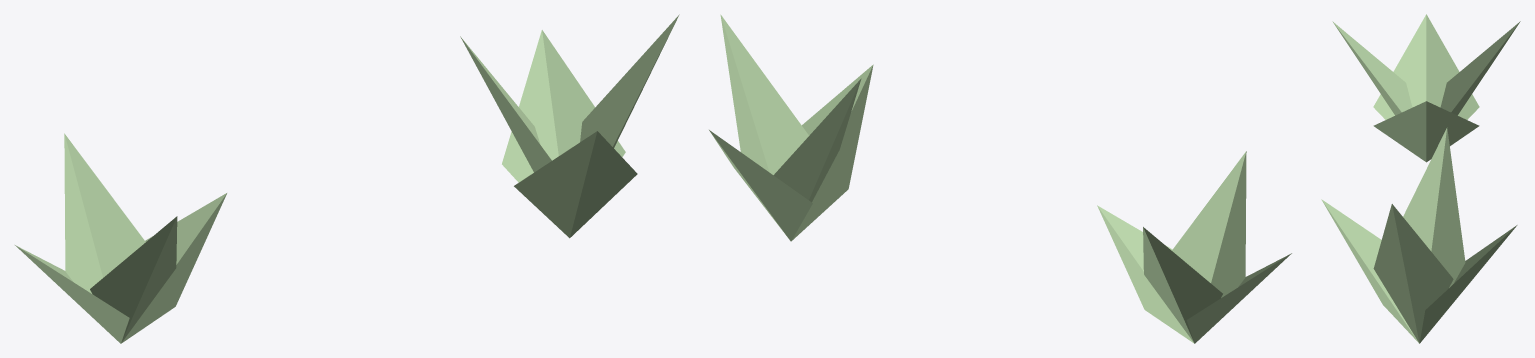
Rendered from crafted-orchard-ready.glb.
3 views of the same model, side by side, from view 1: azimuth 30°, elevation 25°; view 2: azimuth 150°, elevation 25°; view 3: azimuth 270°, elevation 25° (orthographic). The views are drawn at different scales.
Visible parts, largest first — view 1: vegetation-1, vegetation-0; view 2: vegetation-1, vegetation-0; view 3: vegetation-1, vegetation-0.
Boxes of the visible parts, x1=… form: vegetation-1: x1=460, y1=14, x2=679, y2=238; vegetation-0: x1=15, y1=133, x2=226, y2=343; vegetation-1: x1=709, y1=14, x2=873, y2=241; vegetation-0: x1=1097, y1=151, x2=1291, y2=343; vegetation-1: x1=1321, y1=127, x2=1517, y2=343; vegetation-0: x1=1332, y1=14, x2=1520, y2=162.
Size of the model in its own units: 1.81 by 0.574 by 0.5819.
